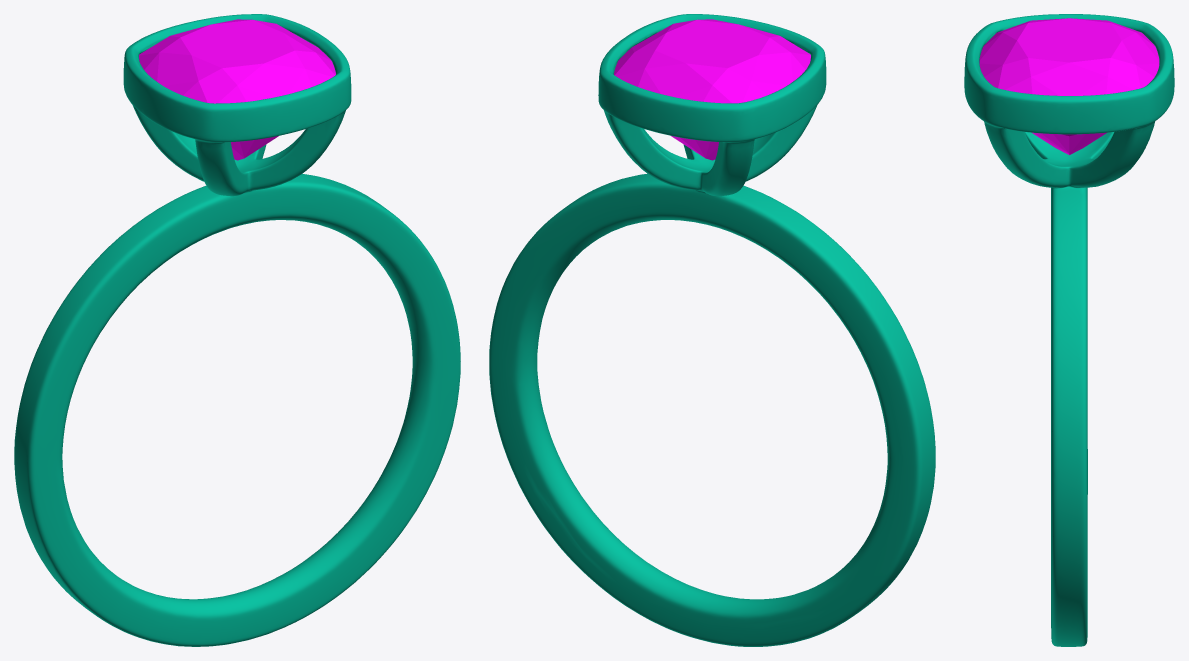
The model's file is BE1808_CU_200ct_RENDER.glb.
3 renders of one model, left to right at view 1: azimuth 30°, elevation 25°; view 2: azimuth 150°, elevation 25°; view 3: azimuth 270°, elevation 25°, orthographic.
Visible parts, largest first — view 1: Metal 01, CS_Diamond_Cushion; view 2: Metal 01, CS_Diamond_Cushion; view 3: Metal 01, CS_Diamond_Cushion.
Part boxes in pixels (bbox=[...]): Metal 01: bbox=[14, 14, 460, 646]; CS_Diamond_Cushion: bbox=[139, 19, 335, 160]; Metal 01: bbox=[489, 14, 935, 646]; CS_Diamond_Cushion: bbox=[614, 19, 810, 160]; Metal 01: bbox=[964, 14, 1174, 646]; CS_Diamond_Cushion: bbox=[979, 18, 1159, 154].
Bounding box in the file's own units: 20.11 × 26.28 × 8.58.
